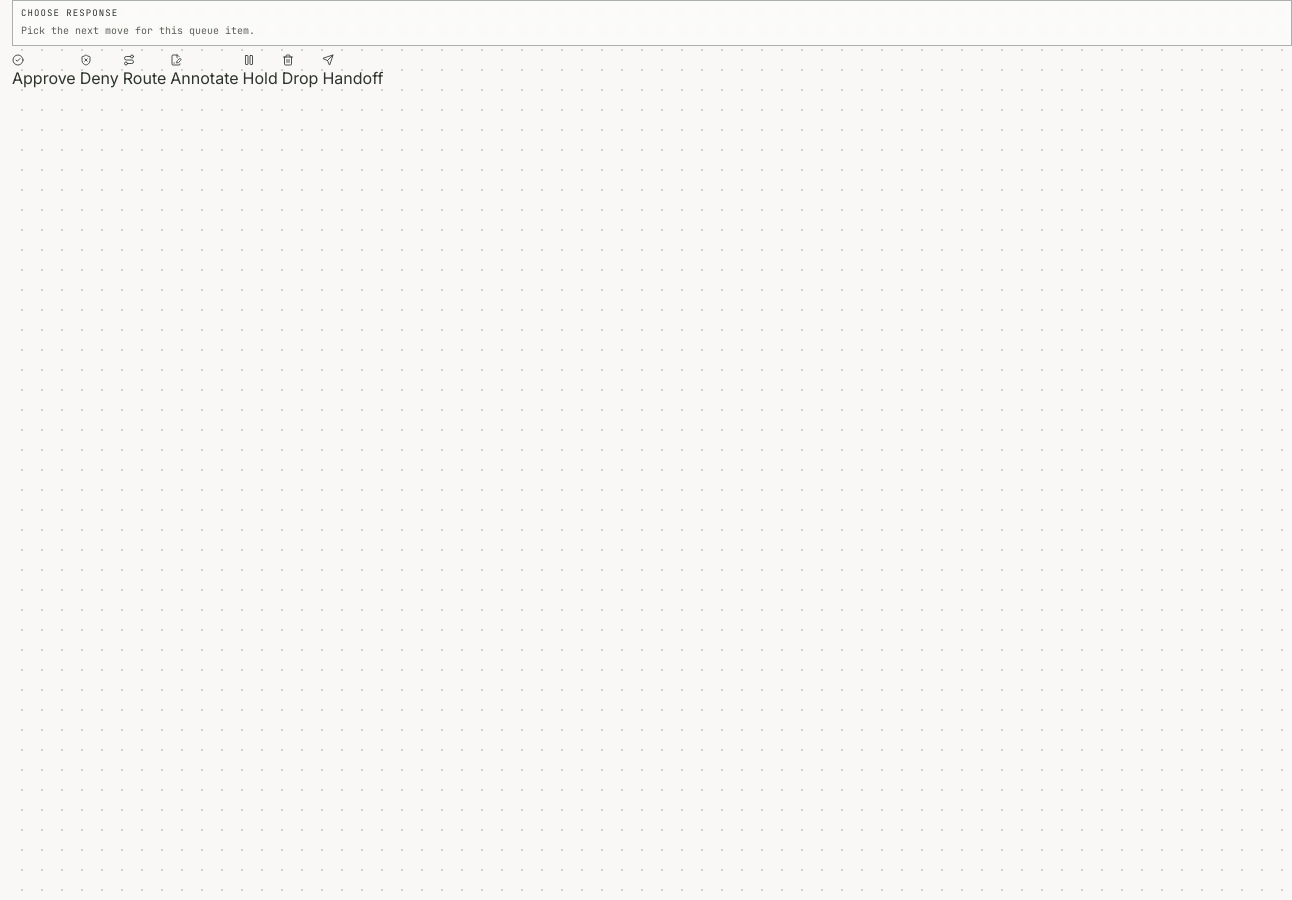
Test: VerbActions — inline error surface (demo-bug fix #2) › clears the error message when the operator picks a different verb
This screenshot has width=1292, height=900.
Click the button with test id "mc-verb-approve" at (44, 72), box 12,54 -> 76,90
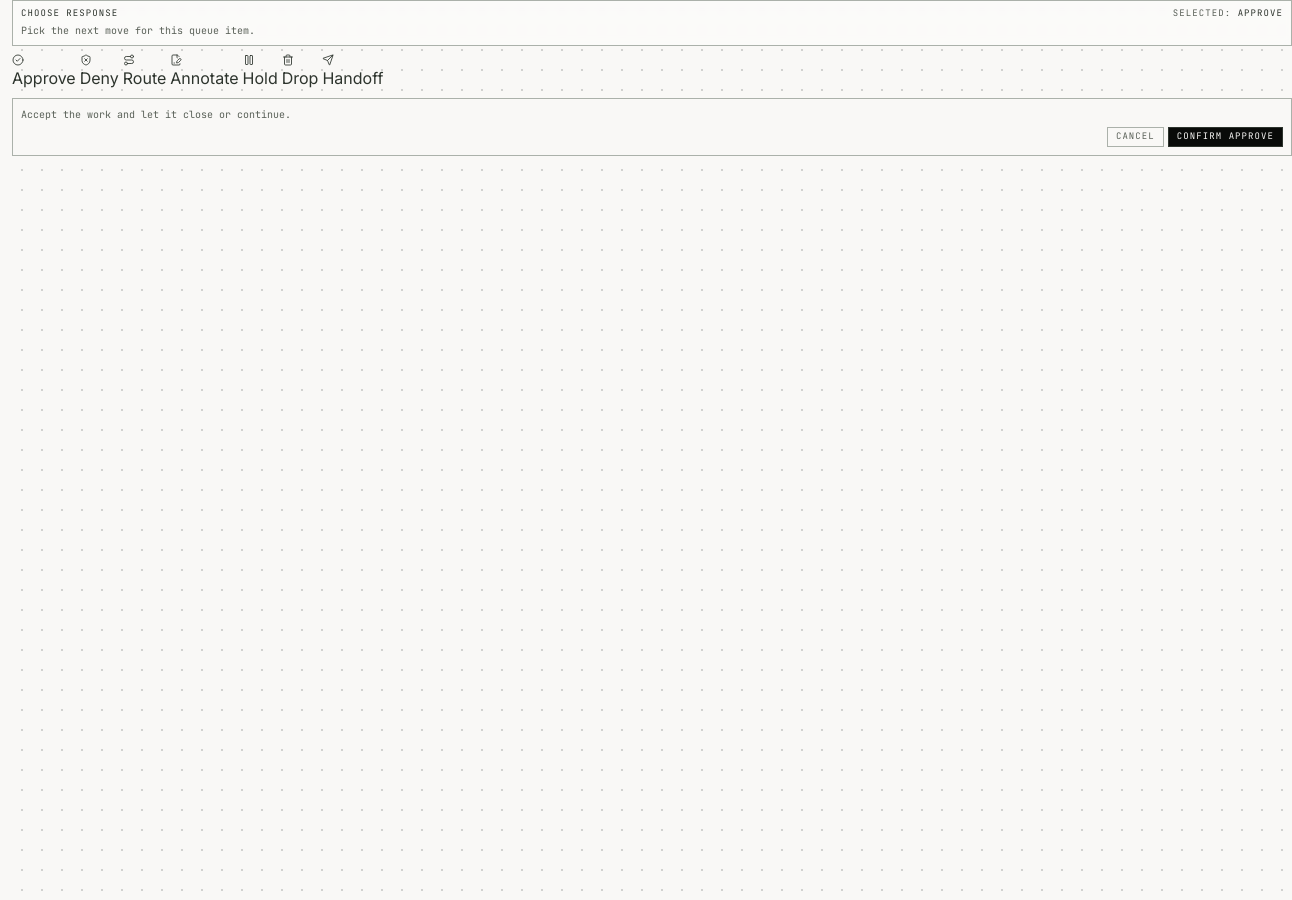
Click the button with test id "mc-verb-submit" at (1225, 137), box 1168,127 -> 1283,146
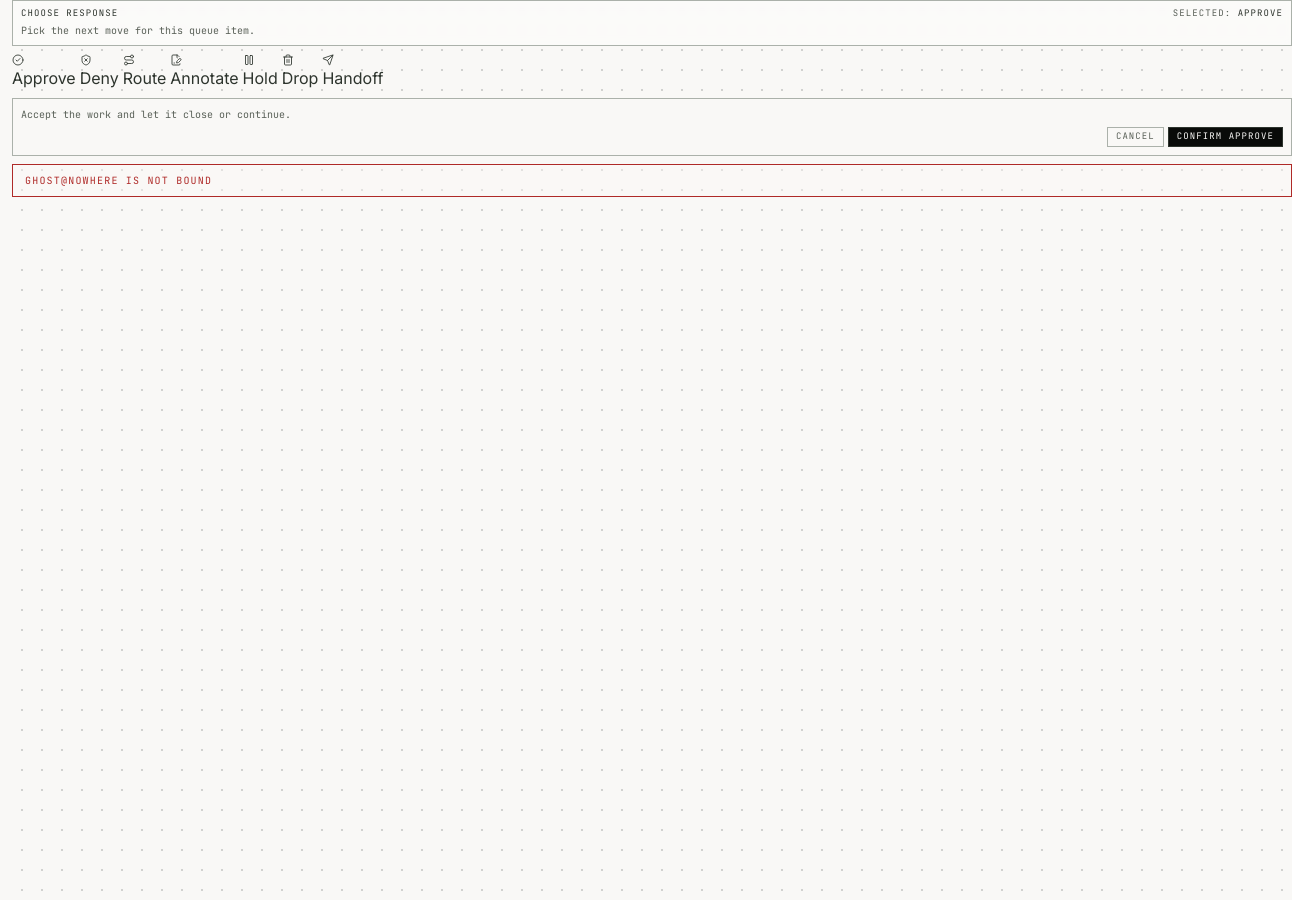
Check: the message "ghost@nowhere is not bound" is shown, box 12,164 -> 1291,196
Click the button with test id "mc-verb-deny" at (99, 72), box 80,54 -> 119,90
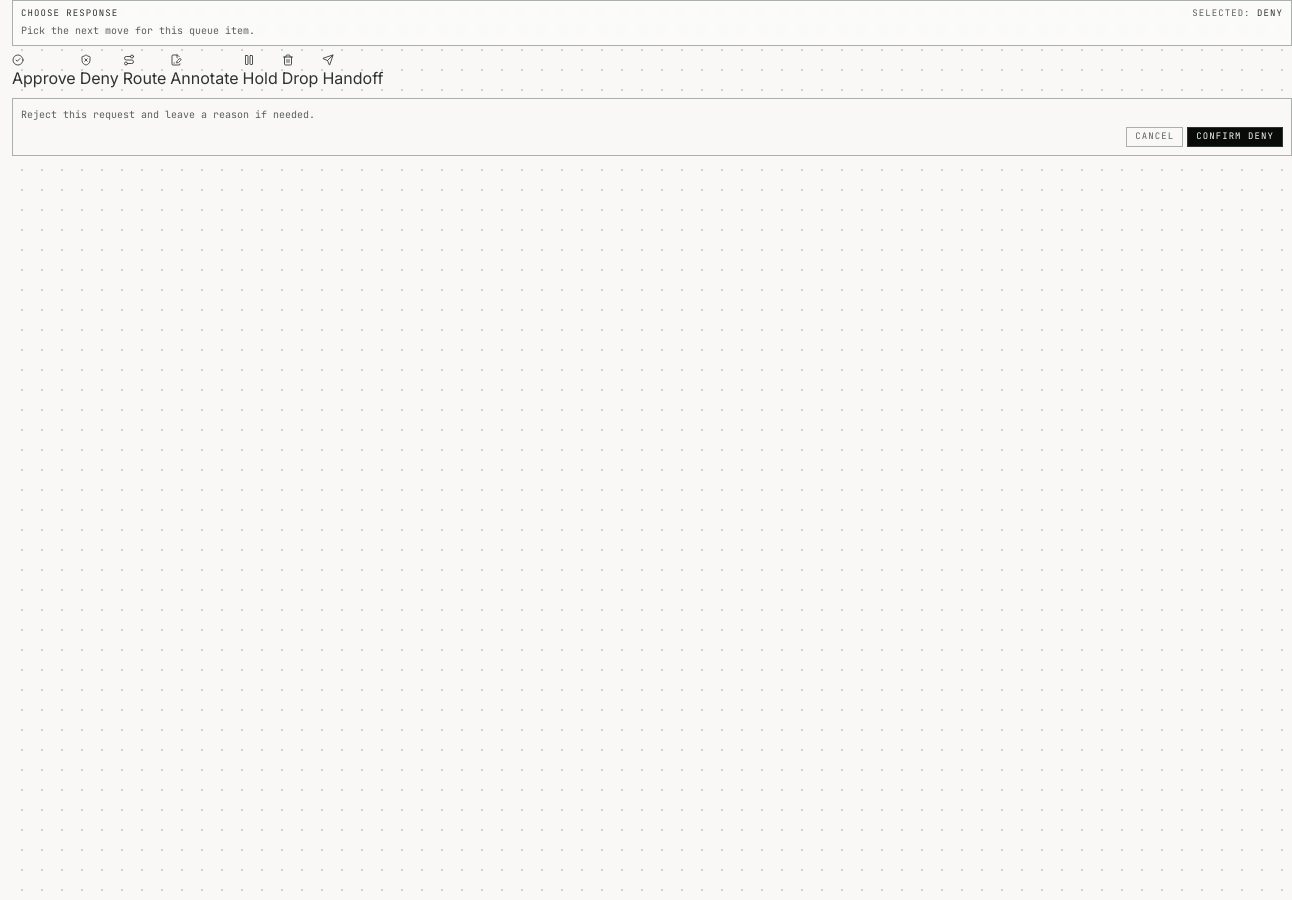
Check: the message with test id "mc-verb-error" is gone
